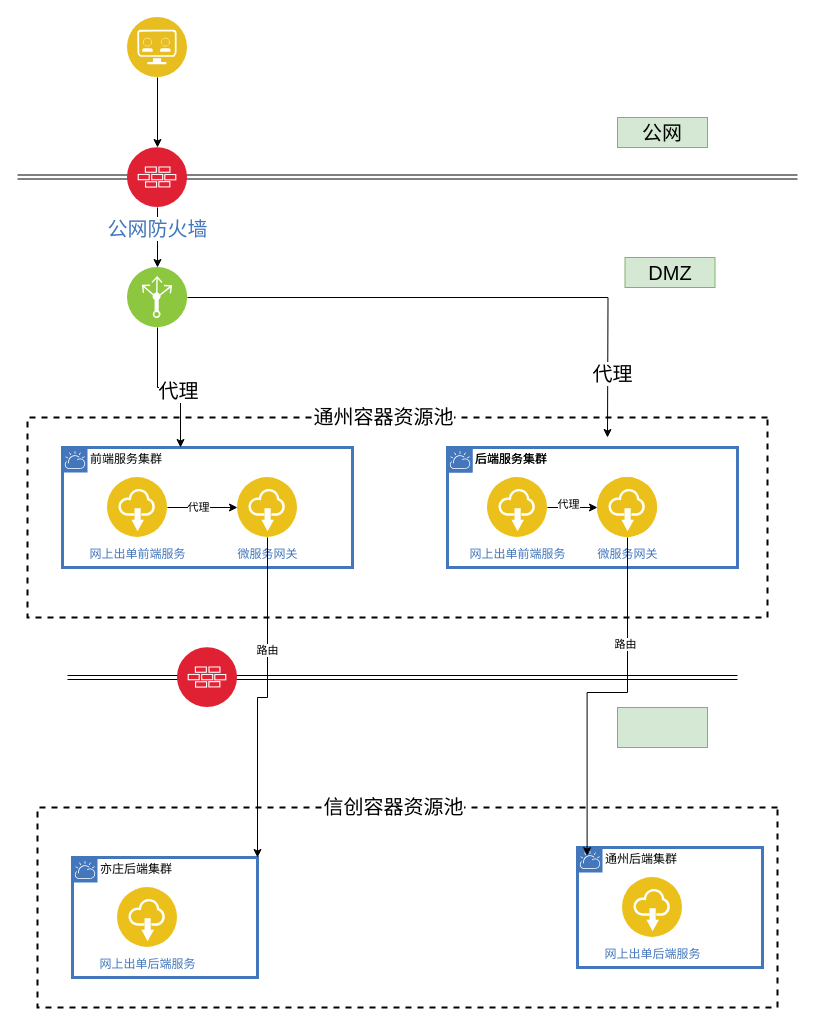
Some shapes in this 815 by 1026 pixel diagram are drawn without their labels. Each missing label, with the centre of its shape:
业务员: (x=157, y=47)
内网: (x=662, y=727)
内网防火墙: (x=207, y=677)
容器负载: (x=157, y=297)
